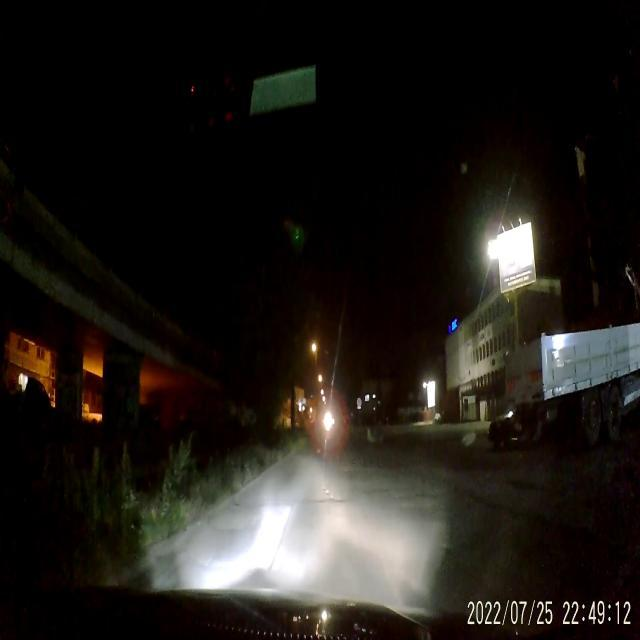Pothole: (317, 482, 352, 506)
